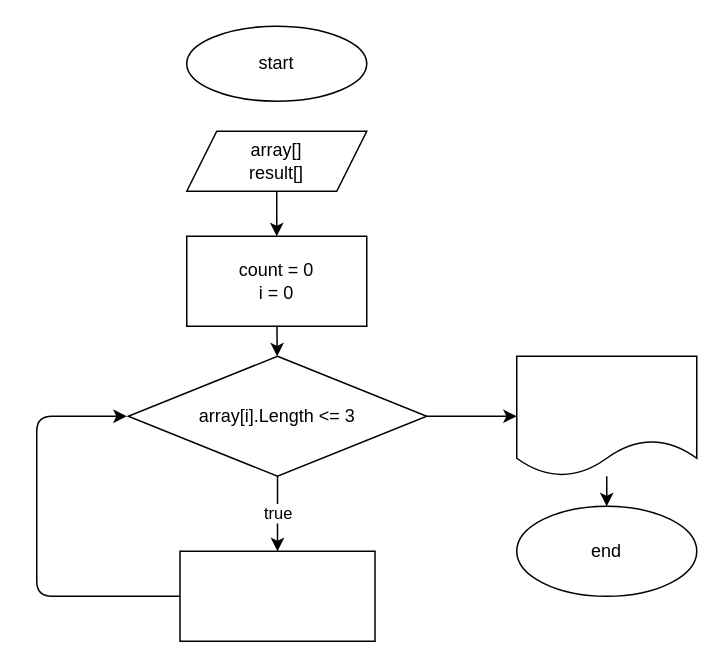
This 723x668 diagram has some shape labels left out. The shapes that lost their labels are listed below. From the top down, each one's centre as x and y in pixels, then its label:
At [606,415]: "result[]".
At [276,595]: "result[count] = array[i] i++ count++".
